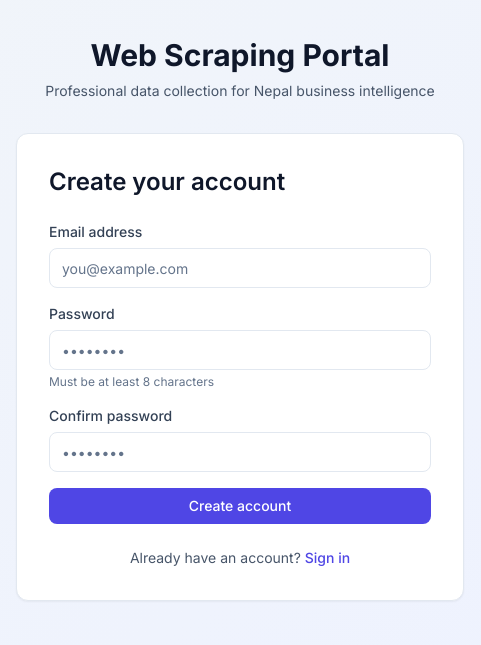
Scenario: RegisterPage › Form Validation - Empty Fields › shows error when confirm password is empty
Type "test@example.com" into the field labelled "Email address". click: (240, 268)
box: [49,248,431,288]
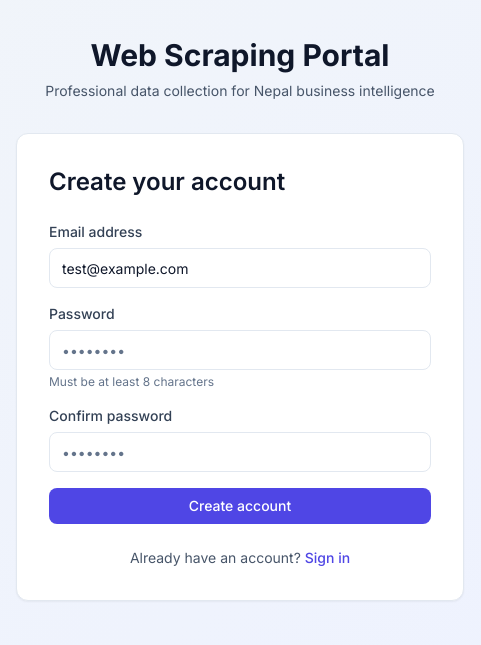
Type "password123" into the password field labelled "Password". click: (240, 350)
box: [49,330,431,370]
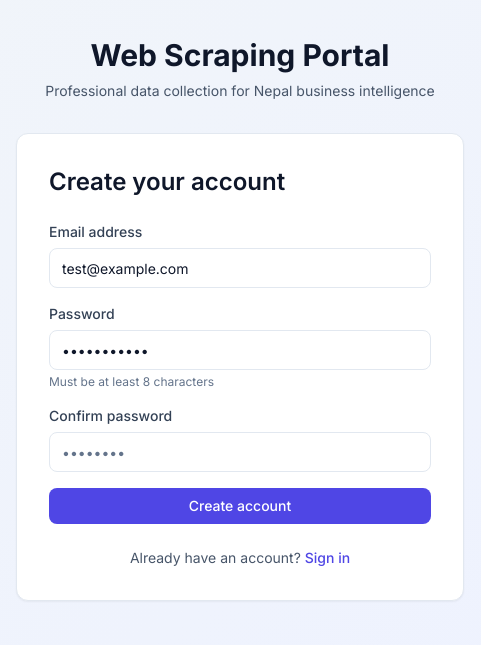
Click the button "Create account". click: (240, 506)
box: [49,488,431,524]
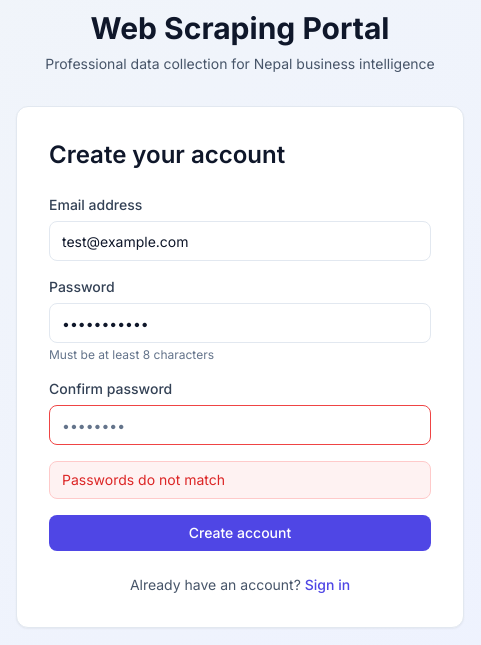
Result: the text "Passwords do not match" is shown at [49,461,431,499]
